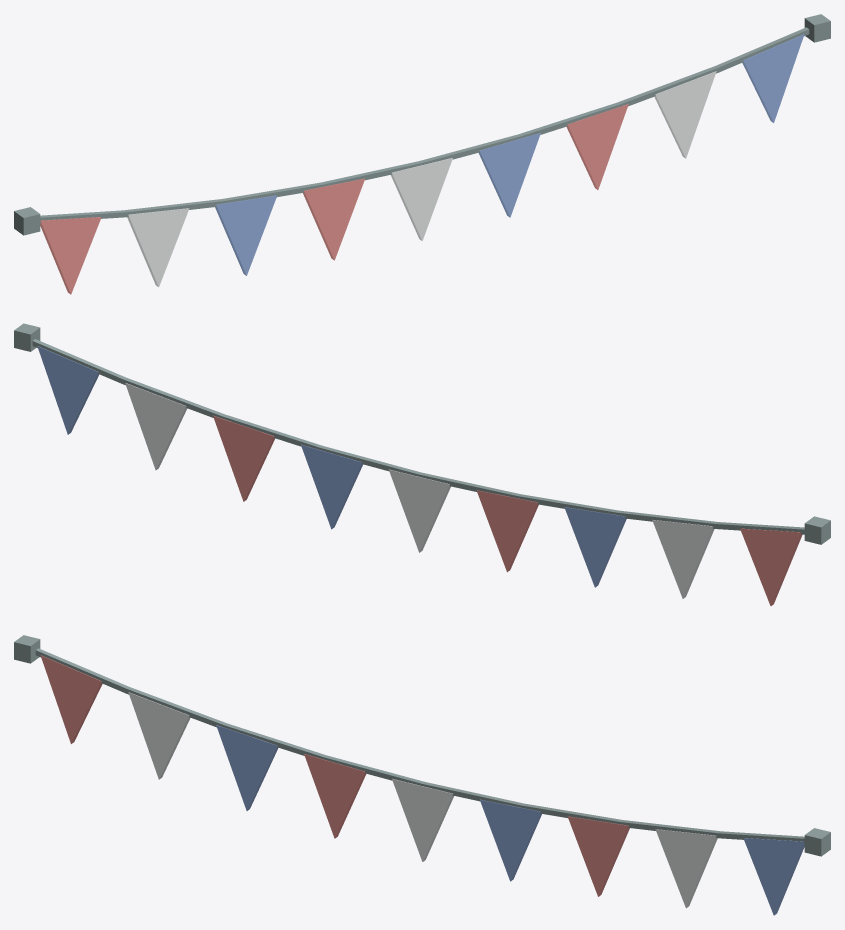
The model's file is bunting.glb.
3 renders of one model, top to bottom at view 1: azimuth 30°, elevation 25°; view 2: azimuth 150°, elevation 25°; view 3: azimuth 330°, elevation 25°, orthographic.
Visible parts, largest first — view 1: Bunting; view 2: Bunting; view 3: Bunting.
Boxes of the visible parts, x1,y1,x2,y2 form: Bunting: [14, 14, 830, 294]; Bunting: [14, 323, 830, 605]; Bunting: [14, 635, 830, 915].
Bounding box in the file's own units: 1.32 × 0.1955 × 0.0273.
